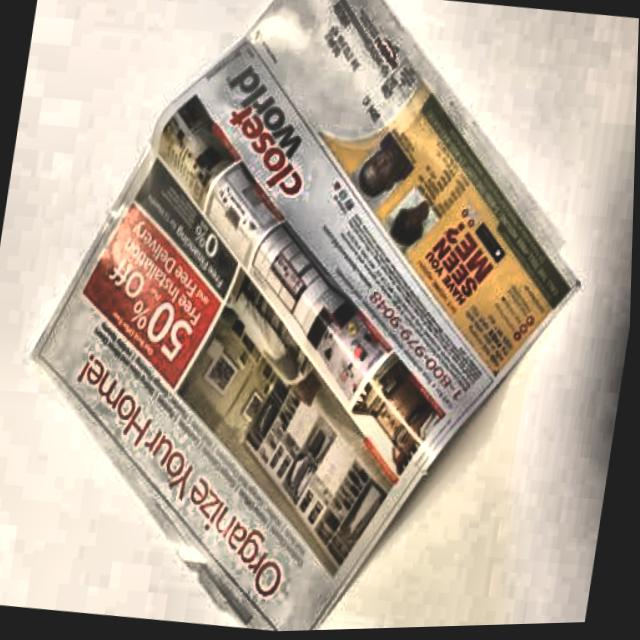Paper: (0, 0, 633, 640)
